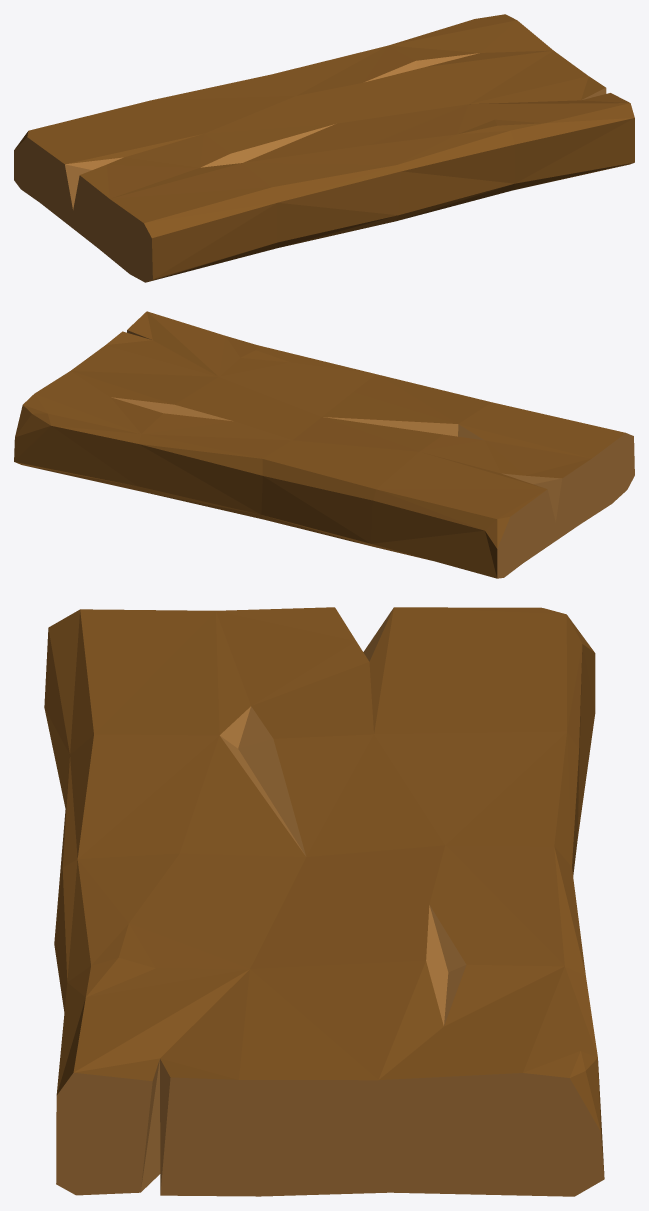
File: PlankC.fbx
3 renders of one model, top to bottom at view 1: azimuth 30°, elevation 25°; view 2: azimuth 150°, elevation 25°; view 3: azimuth 270°, elevation 25°, orthographic. The views are drawn at different scales.
Visible parts, largest first — view 1: PlankC; view 2: PlankC; view 3: PlankC.
Part boxes in pixels (x1=…): PlankC: x1=14, y1=14, x2=634, y2=282; PlankC: x1=14, y1=311, x2=634, y2=578; PlankC: x1=44, y1=607, x2=604, y2=1196.
Bounding box in the file's own units: 99.99 × 12.75 × 50.44.
